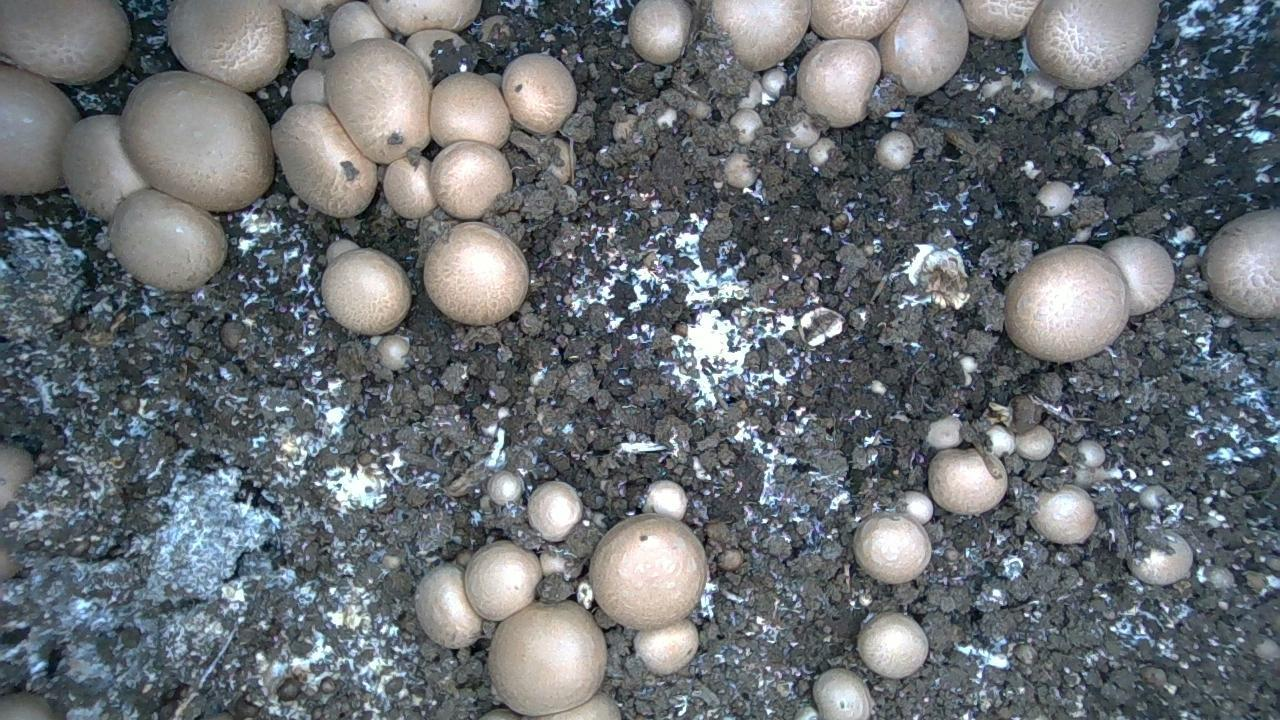BB: (120, 71, 274, 211), (1005, 245, 1128, 362), (589, 514, 707, 629), (488, 601, 606, 715), (325, 38, 431, 163), (272, 103, 376, 217), (109, 189, 226, 290), (1026, 0, 1159, 88), (167, 0, 288, 91), (423, 222, 528, 325), (62, 115, 148, 220), (878, 0, 968, 95), (1202, 209, 1279, 318), (321, 248, 410, 334), (797, 39, 881, 127), (712, 0, 811, 70), (430, 140, 512, 219), (429, 72, 510, 148), (464, 541, 541, 620), (501, 53, 576, 134), (1102, 236, 1174, 315), (415, 564, 481, 648), (853, 513, 931, 583), (928, 448, 1006, 514), (857, 612, 928, 678), (628, 0, 691, 64), (369, 0, 481, 35), (1030, 485, 1097, 543), (810, 0, 906, 39), (383, 147, 435, 219), (633, 619, 698, 674), (1128, 532, 1192, 584), (528, 481, 582, 541), (329, 0, 390, 52), (962, 0, 1039, 39), (813, 668, 871, 719), (533, 692, 620, 719), (643, 480, 687, 519), (875, 131, 914, 169), (0, 693, 54, 719), (1015, 425, 1054, 460), (1036, 181, 1073, 216), (290, 69, 325, 104), (277, 0, 338, 20), (488, 471, 523, 504), (724, 152, 756, 188), (730, 107, 762, 143), (926, 416, 960, 449), (377, 335, 409, 369), (440, 362, 468, 393), (1077, 440, 1105, 467), (809, 137, 835, 166), (1013, 643, 1036, 665), (479, 707, 521, 719), (576, 581, 593, 609)
